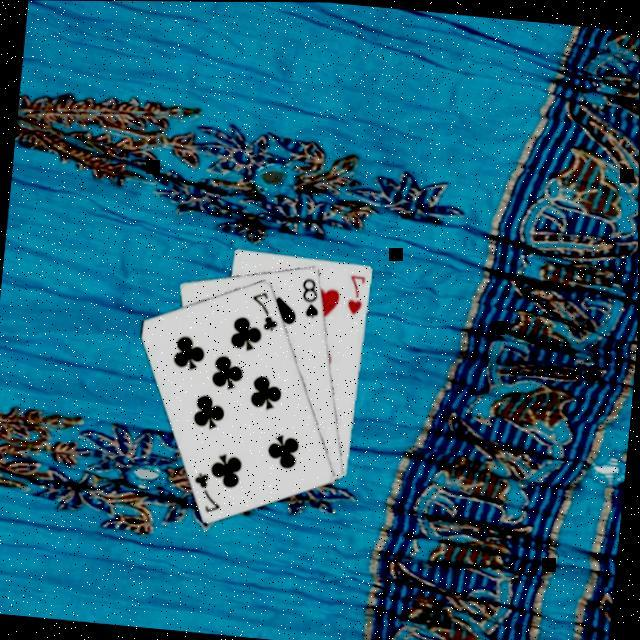7C: (189, 468, 227, 518), (246, 288, 284, 336)
7H: (344, 272, 370, 320)
8S: (297, 276, 325, 324)
